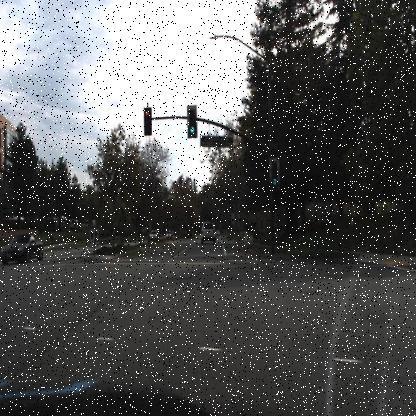car: (0, 232, 45, 268), (198, 218, 216, 246)
trafficLight: (268, 158, 280, 191), (188, 105, 198, 139)
trafficLight-RedLeft: (143, 105, 152, 136)
